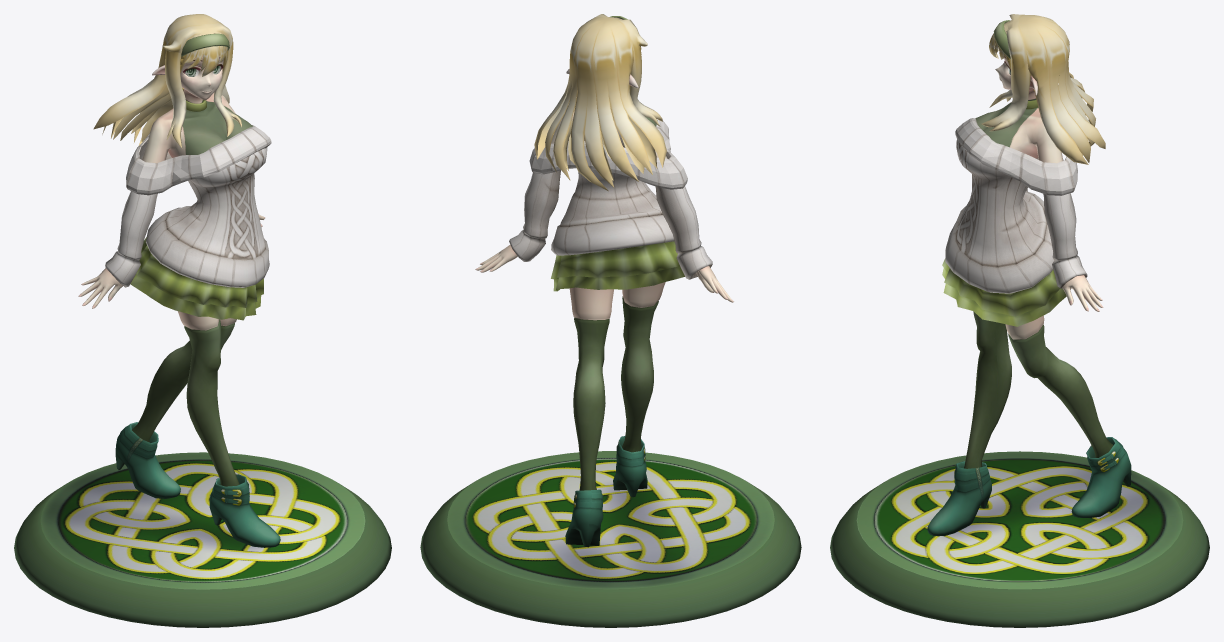
The model's file is elf.glb.
The picture shows the model from 3 angles, left to right: view 1: azimuth 30°, elevation 25°; view 2: azimuth 150°, elevation 25°; view 3: azimuth 270°, elevation 25°; orthographic projection.
Parts seen in each view (by area): view 1: Elf01_posed_002; view 2: Elf01_posed_002; view 3: Elf01_posed_002.
Boxes of the visible parts, <box> form: Elf01_posed_002: <box>14,14,391,627</box>; Elf01_posed_002: <box>420,14,801,627</box>; Elf01_posed_002: <box>830,14,1209,627</box>.
Size of the model in its own units: 4.68 by 7.25 by 4.68.
Materials: 4 (4 with a texture image).
